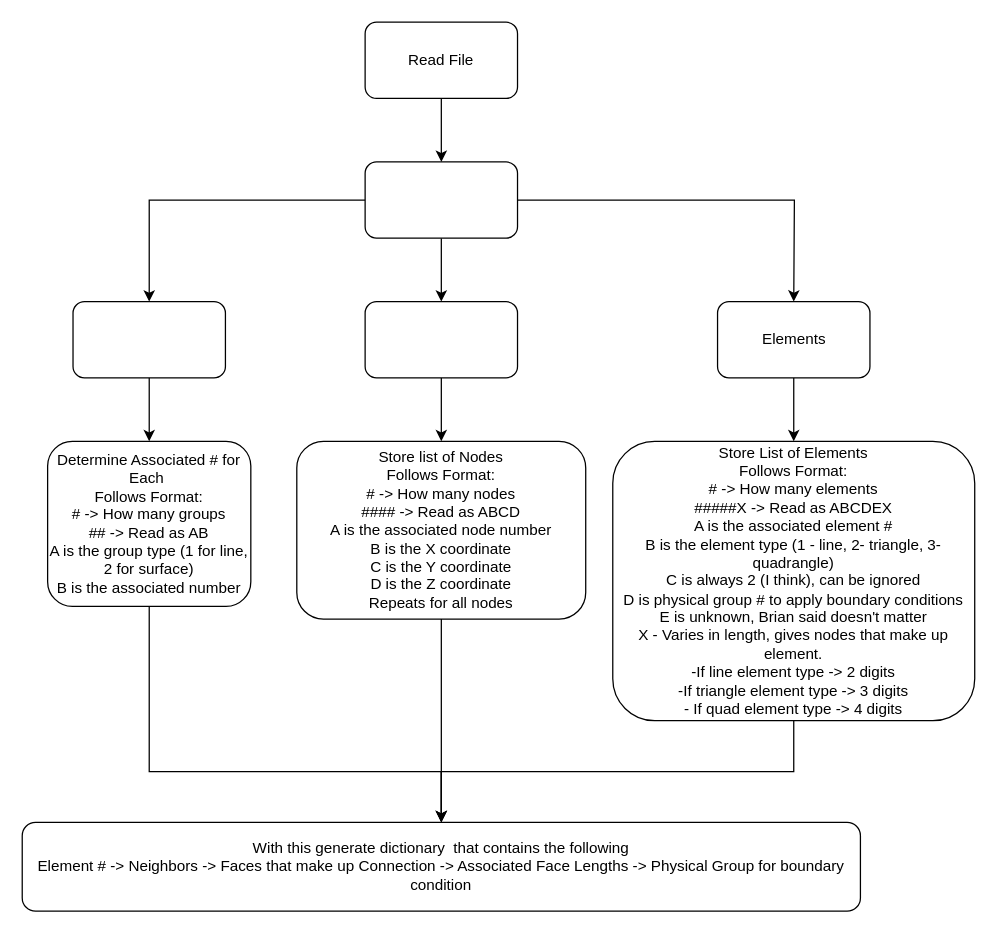
The diagram is 997 pixels wide and 933 high, and some of its shapes have lost their labels. Here are the shapes that lost their labels. From the top down, the centre of each, then its label:
At [441,199]: "Separate Data".
At [148,339]: "Physical Groups".
At [441,339]: "Nodes".
